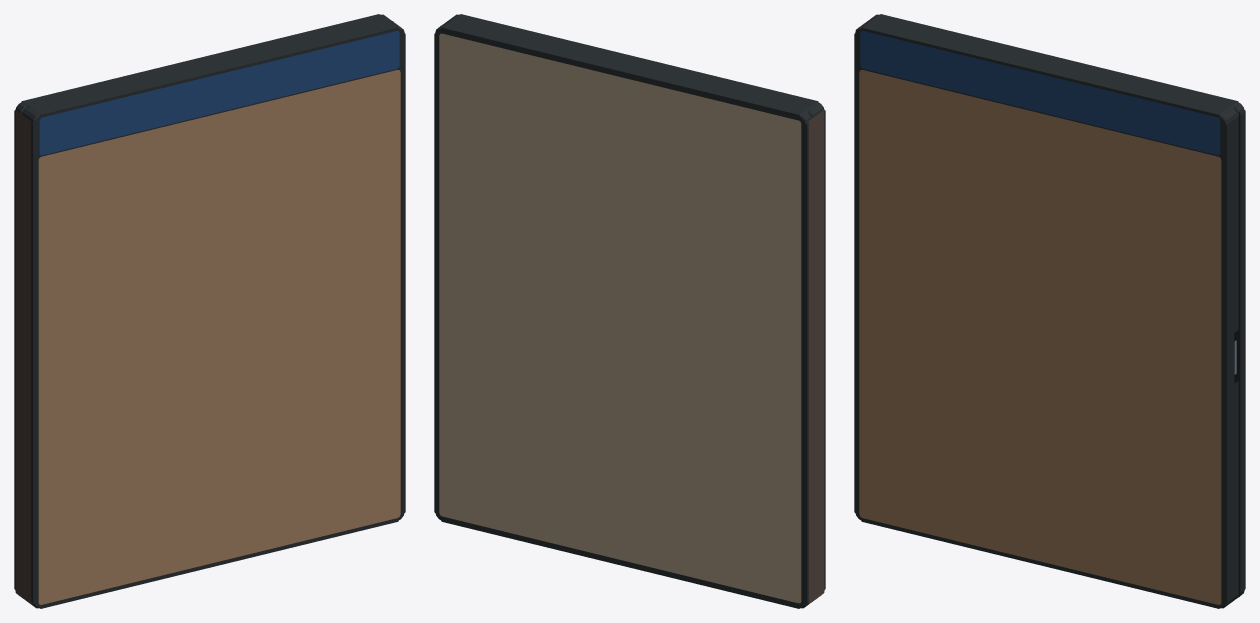
Rendered from bluray.glb.
3 renders of one model, left to right at view 1: azimuth 30°, elevation 25°; view 2: azimuth 150°, elevation 25°; view 3: azimuth 330°, elevation 25°, orthographic.
Parts seen in each view (by area): view 1: Shelf_bluray, Detail_bluray; view 2: Detail_bluray, Shelf_bluray; view 3: Detail_bluray, Shelf_bluray.
Boxes of the visible parts, left/top/right/bottom form: Shelf_bluray: left=14, top=14, right=405, bottom=608; Detail_bluray: left=15, top=14, right=404, bottom=608; Detail_bluray: left=435, top=14, right=824, bottom=608; Shelf_bluray: left=434, top=14, right=825, bottom=608; Detail_bluray: left=855, top=14, right=1244, bottom=608; Shelf_bluray: left=854, top=14, right=1245, bottom=608.
Size of what is drawn, in the model's own units: 0.135 by 0.1709 by 0.012.
